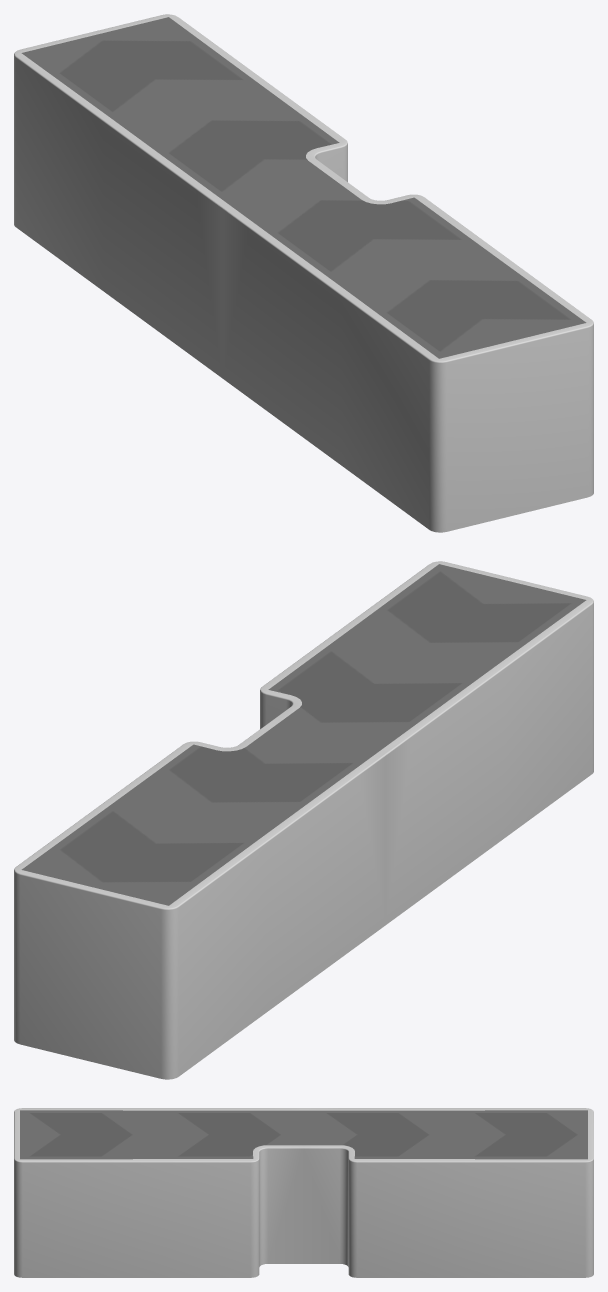
Rendered from Platform_Right1.fbx.
3 views of the same model, one above another, from view 1: azimuth 30°, elevation 25°; view 2: azimuth 150°, elevation 25°; view 3: azimuth 270°, elevation 25° (orthographic). The views are drawn at different scales.
Parts seen in each view (by area): view 1: Platform_Right1; view 2: Platform_Right1; view 3: Platform_Right1.
Part boxes in pixels (box(x1,y1,x2,y2)): Platform_Right1: box(14, 14, 593, 532); Platform_Right1: box(14, 561, 593, 1079); Platform_Right1: box(14, 1108, 593, 1277).
Bounding box in the file's own units: 671 × 671 × 3040.
2 materials, 1 textured.
